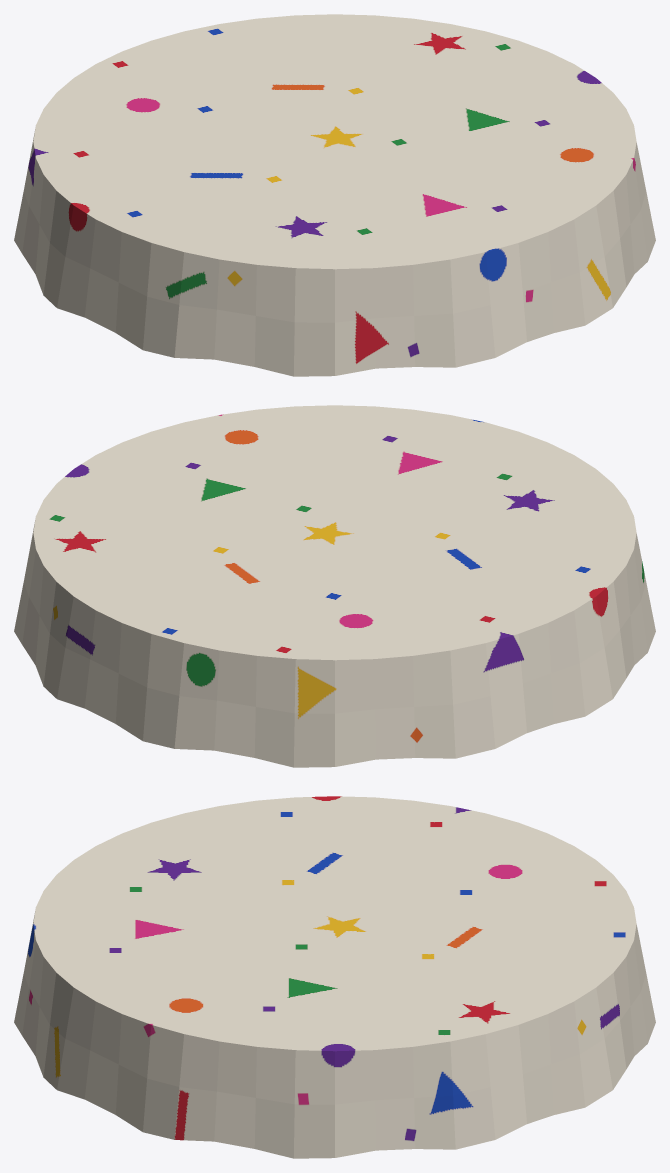
The model's file is party_cloth_round_confetti.glb.
3 renders of one model, top to bottom at view 1: azimuth 30°, elevation 25°; view 2: azimuth 150°, elevation 25°; view 3: azimuth 270°, elevation 25°, orthographic.
Parts seen in each view (by area): view 1: party_cloth_round_confetti; view 2: party_cloth_round_confetti; view 3: party_cloth_round_confetti.
Boxes of the visible parts, box(x1,y1,x2,y2) form: party_cloth_round_confetti: box(14, 14, 655, 376); party_cloth_round_confetti: box(14, 405, 655, 767); party_cloth_round_confetti: box(14, 796, 655, 1158).
Size of the model in its own units: 1.29 by 0.2284 by 1.29.
1 material, 1 textured.
